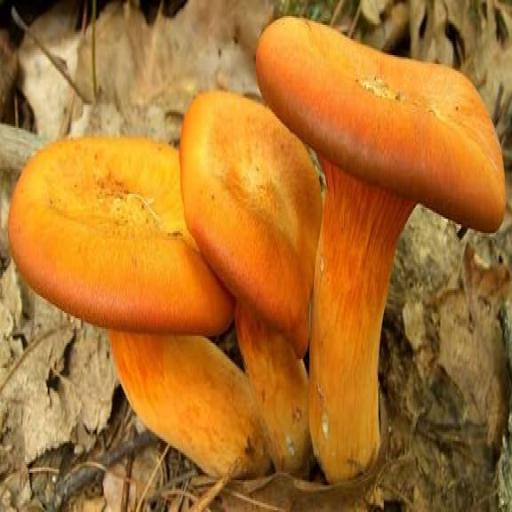Jack O Lantern Mushroom: (251, 14, 508, 490), (10, 135, 267, 483), (177, 75, 332, 481)
